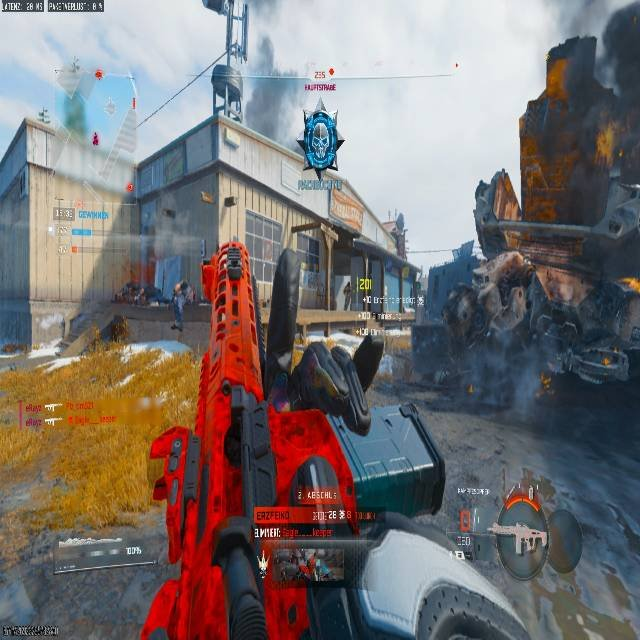player: (296, 109, 345, 170), (214, 242, 248, 325), (169, 280, 190, 333)
